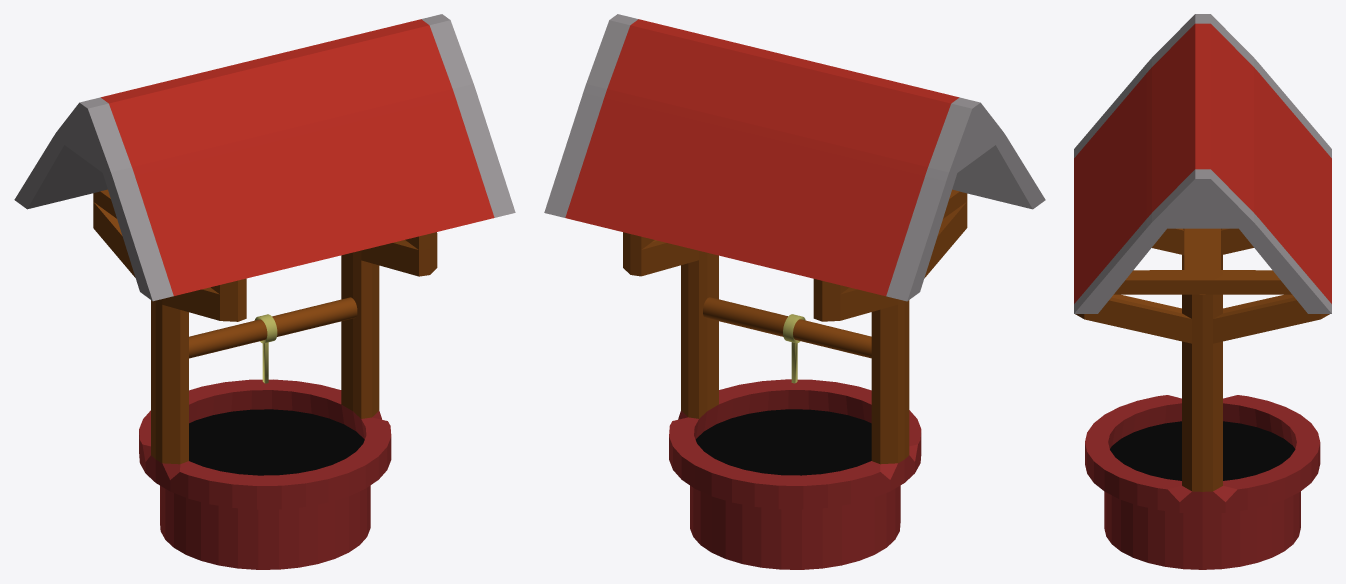
File: Poco_4.fbx
3 views of the same model, side by side, from view 1: azimuth 30°, elevation 25°; view 2: azimuth 150°, elevation 25°; view 3: azimuth 270°, elevation 25° (orthographic). The views are drawn at different scales.
Parts seen in each view (by area): view 1: Cube.001, Circle, Cylinder; view 2: Cube.001, Circle, Cylinder; view 3: Circle, Cube.001.
Part boxes in pixels (box(x1,y1,x2,y2)): Cube.001: box(14, 14, 515, 301); Circle: box(93, 189, 437, 569); Cylinder: box(189, 297, 357, 383); Cube.001: box(544, 14, 1045, 301); Circle: box(623, 189, 967, 569); Cylinder: box(703, 297, 871, 383); Circle: box(1075, 228, 1329, 569); Cube.001: box(1074, 14, 1331, 313).
Size of the model in its own units: 763 by 932 by 504.
